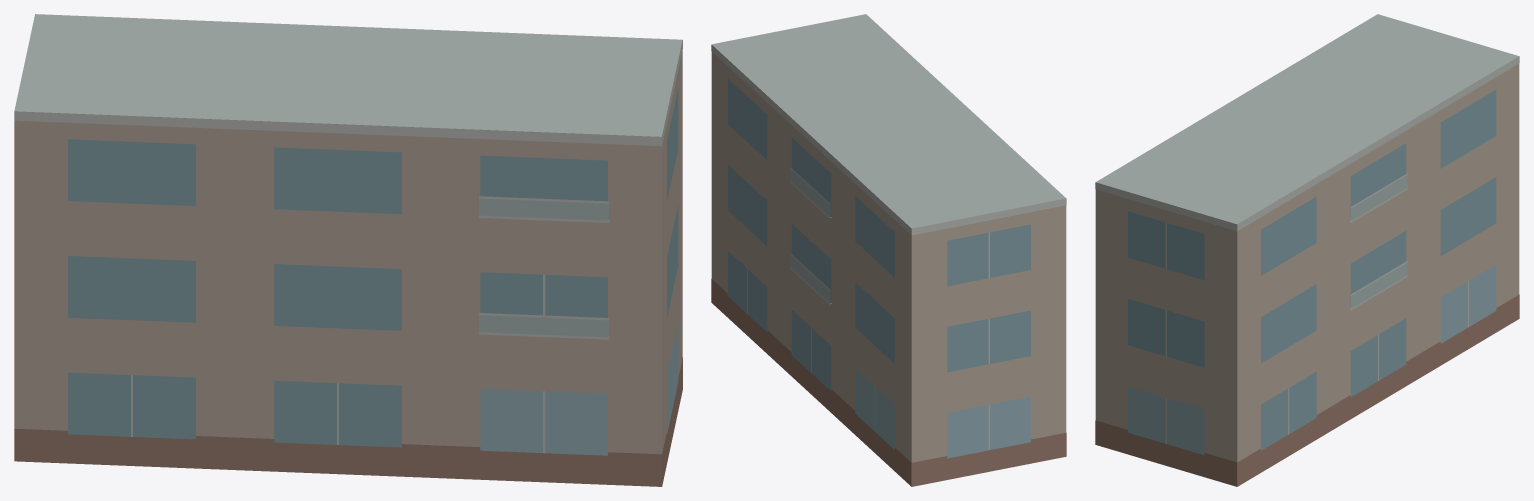
File: survey-upis-32776262.glb
3 renders of one model, left to right at view 1: azimuth 30°, elevation 25°; view 2: azimuth 150°, elevation 25°; view 3: azimuth 270°, elevation 25°, orthographic. The views are drawn at different scales.
Visible parts, largest first — view 1: survey-upis-32776262.tmp; view 2: survey-upis-32776262.tmp; view 3: survey-upis-32776262.tmp.
Boxes of the visible parts, x1,y1,x2,y2 form: survey-upis-32776262.tmp: (14,14,682,486); survey-upis-32776262.tmp: (711,14,1066,486); survey-upis-32776262.tmp: (1095,14,1519,486).
Bounding box in the file's own units: 15.73 × 9.15 × 13.4.
